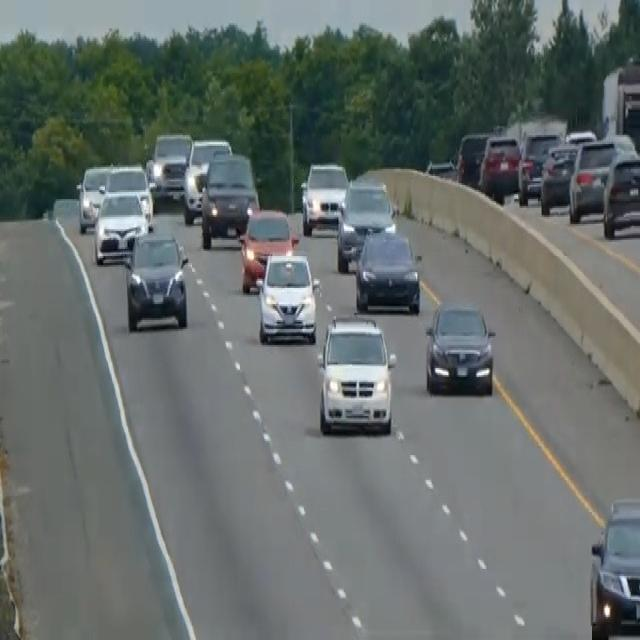car: (588, 494, 639, 638), (424, 298, 496, 396), (124, 226, 189, 330), (255, 249, 319, 345), (354, 226, 421, 314), (199, 151, 259, 247), (335, 178, 395, 272), (238, 206, 298, 294), (92, 187, 150, 265), (182, 137, 232, 224), (568, 137, 617, 220), (300, 160, 349, 235), (601, 148, 639, 238), (517, 128, 561, 204), (102, 162, 154, 226), (146, 130, 192, 199), (478, 131, 521, 201), (539, 140, 578, 213), (76, 162, 111, 231), (455, 130, 490, 185), (425, 155, 457, 181)
lorry: (599, 53, 639, 162)
minivan: (314, 310, 398, 438)
